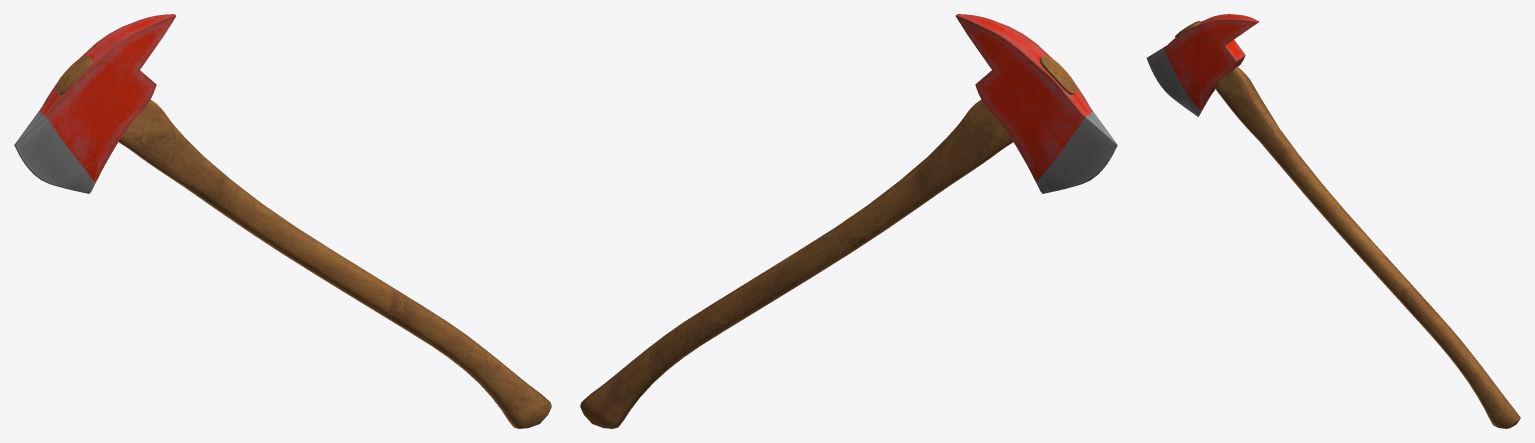
File: fire_axe (4).glb
3 views of the same model, side by side, from view 1: azimuth 30°, elevation 25°; view 2: azimuth 150°, elevation 25°; view 3: azimuth 330°, elevation 25° (orthographic). The views are drawn at different scales.
Parts seen in each view (by area): view 1: AXE_handel_LOW (×2); view 2: AXE_handel_LOW (×2); view 3: AXE_handel_LOW (×2).
Boxes of the visible parts, bbox=[...] form: AXE_handel_LOW (×2): bbox=[14, 14, 551, 428]; AXE_handel_LOW (×2): bbox=[580, 14, 1117, 428]; AXE_handel_LOW (×2): bbox=[1146, 14, 1520, 428].
Size of the model in its own units: 4.76 by 4.22 by 0.2037.
Materials: 2 (2 with a texture image).
